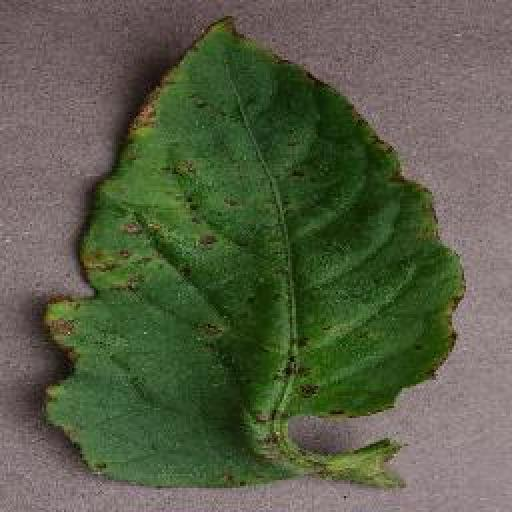Bacterial Spot: (32, 11, 471, 493)
